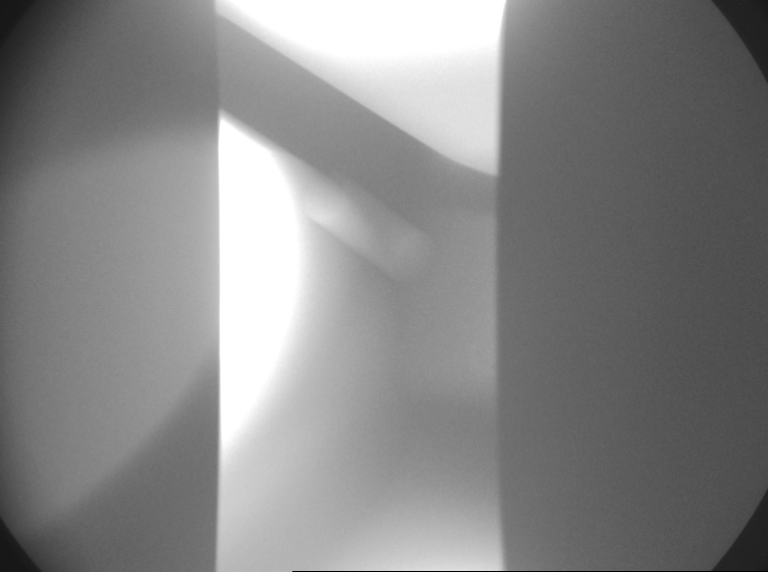defect: (464, 340, 499, 381)
